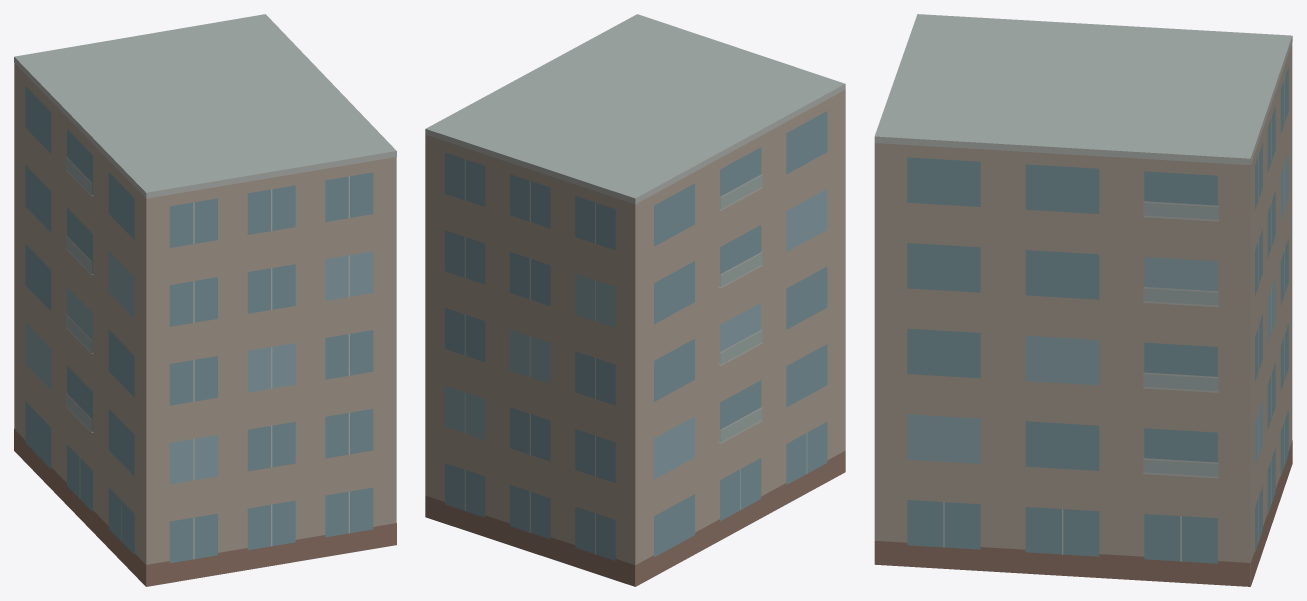
The model's file is survey-upis-32852620.glb.
3 views of the same model, side by side, from view 1: azimuth 30°, elevation 25°; view 2: azimuth 150°, elevation 25°; view 3: azimuth 270°, elevation 25° (orthographic). The views are drawn at different scales.
Parts seen in each view (by area): view 1: survey-upis-32852620.tmp; view 2: survey-upis-32852620.tmp; view 3: survey-upis-32852620.tmp.
Boxes of the visible parts, x1,y1,x2,y2 form: survey-upis-32852620.tmp: (14, 14, 396, 586); survey-upis-32852620.tmp: (425, 14, 845, 586); survey-upis-32852620.tmp: (874, 14, 1292, 586).
Bounding box in the file's own units: 11.68 × 16.1 × 14.25.
